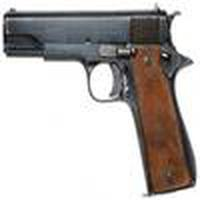gun: (4, 10, 196, 190)
